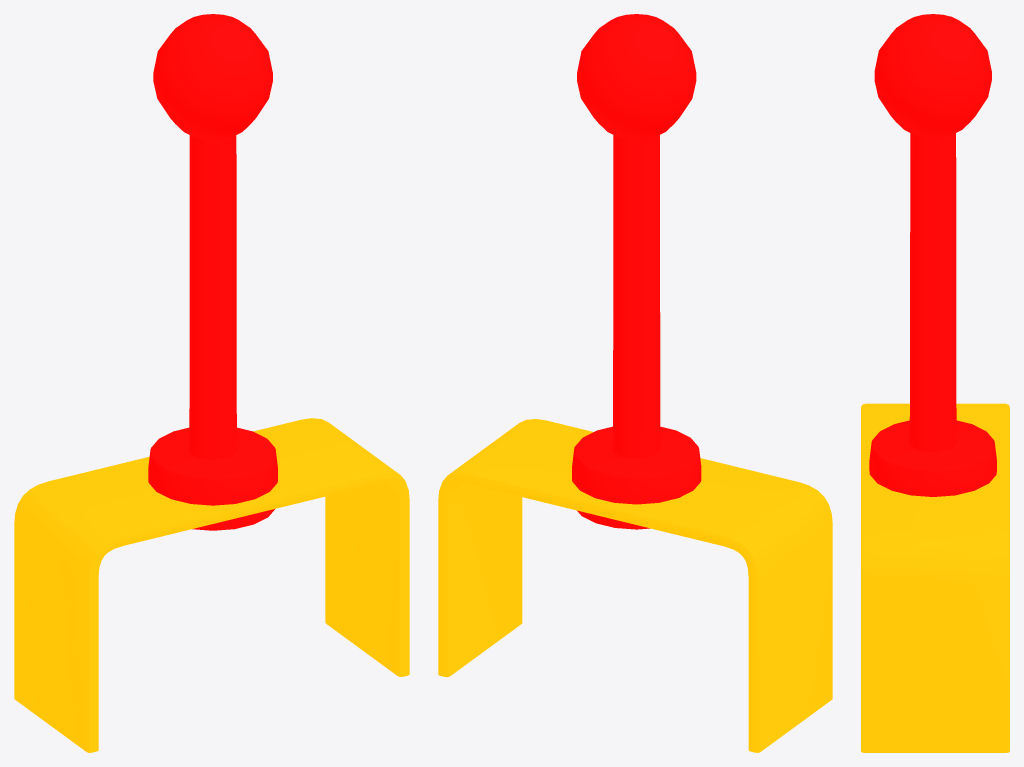
Rendered from leverstickballPlus_support.FBX.
The picture shows the model from 3 angles, left to right: view 1: azimuth 30°, elevation 25°; view 2: azimuth 150°, elevation 25°; view 3: azimuth 270°, elevation 25°; orthographic projection.
Parts seen in each view (by area): view 1: Cylinder005; view 2: Cylinder005; view 3: Cylinder005.
Part boxes in pixels (x1=…): Cylinder005: x1=14, y1=14, x2=409, y2=752; Cylinder005: x1=438, y1=14, x2=832, y2=752; Cylinder005: x1=861, y1=14, x2=1009, y2=752.
Size of the model in its own units: 18.33 by 36.2 by 7.45.
